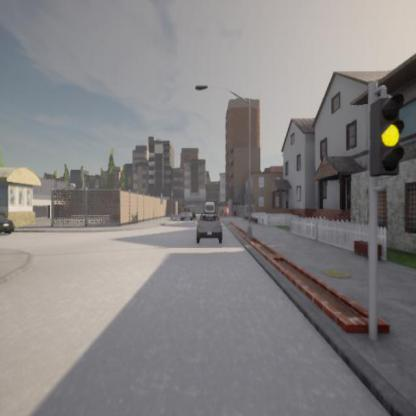traffic_light_orange: (372, 94, 406, 176)
vehicle: (194, 213, 224, 241), (1, 215, 16, 236)
